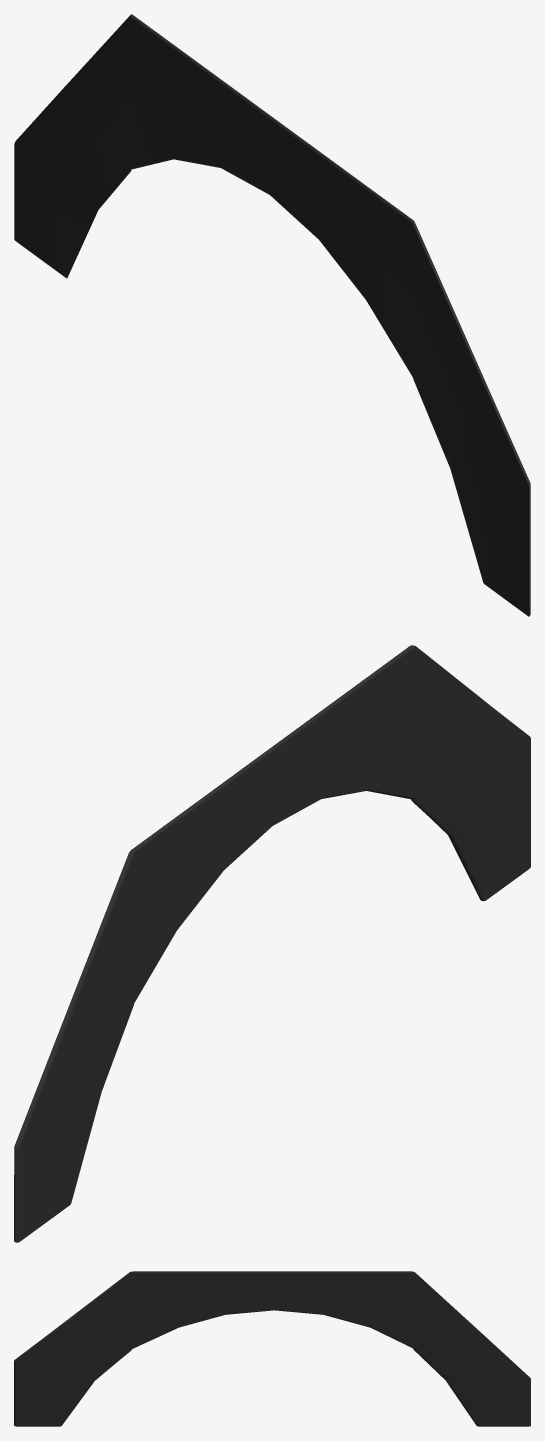
File: Side_Cover.glb
The picture shows the model from 3 angles, top to bottom: view 1: azimuth 30°, elevation 25°; view 2: azimuth 150°, elevation 25°; view 3: azimuth 270°, elevation 25°; orthographic projection. The views are drawn at different scales.
Parts seen in each view (by area): view 1: Cover; view 2: Cover; view 3: Cover.
Part boxes in pixels (x1=…): Cover: x1=14, y1=14, x2=530, y2=616; Cover: x1=14, y1=645, x2=530, y2=1242; Cover: x1=14, y1=1271, x2=530, y2=1426.
Bounding box in the file's own units: 0.00388 × 0.314 × 0.9491.
1 material, 1 textured.
